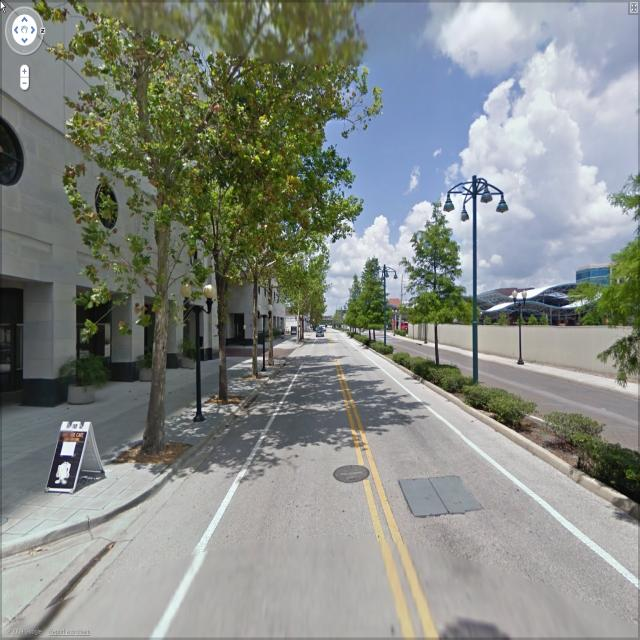b_2: (1, 2, 230, 384), (224, 245, 290, 344), (571, 252, 640, 298), (283, 302, 318, 346)
